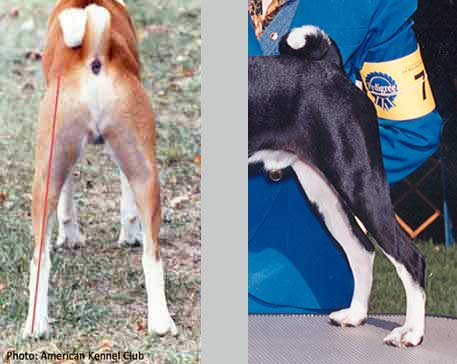dog: (246, 33, 427, 363), (19, 1, 176, 344)
